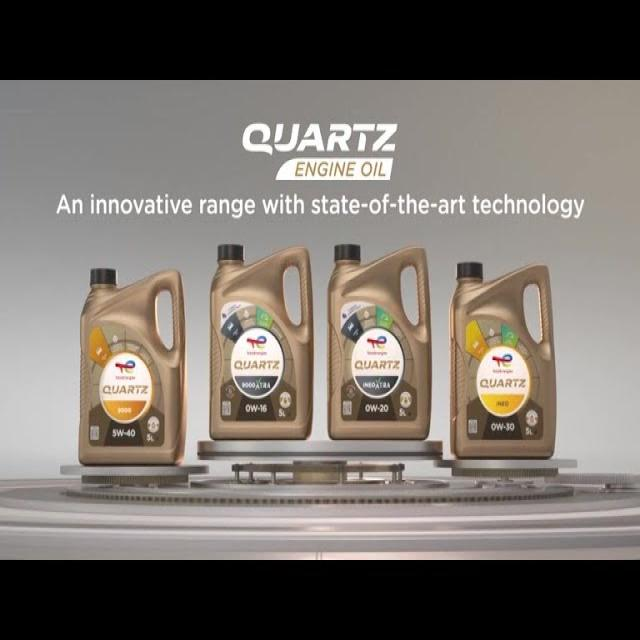motor_oil: (76, 260, 188, 468), (446, 257, 558, 462), (206, 239, 317, 445), (326, 236, 435, 444)
